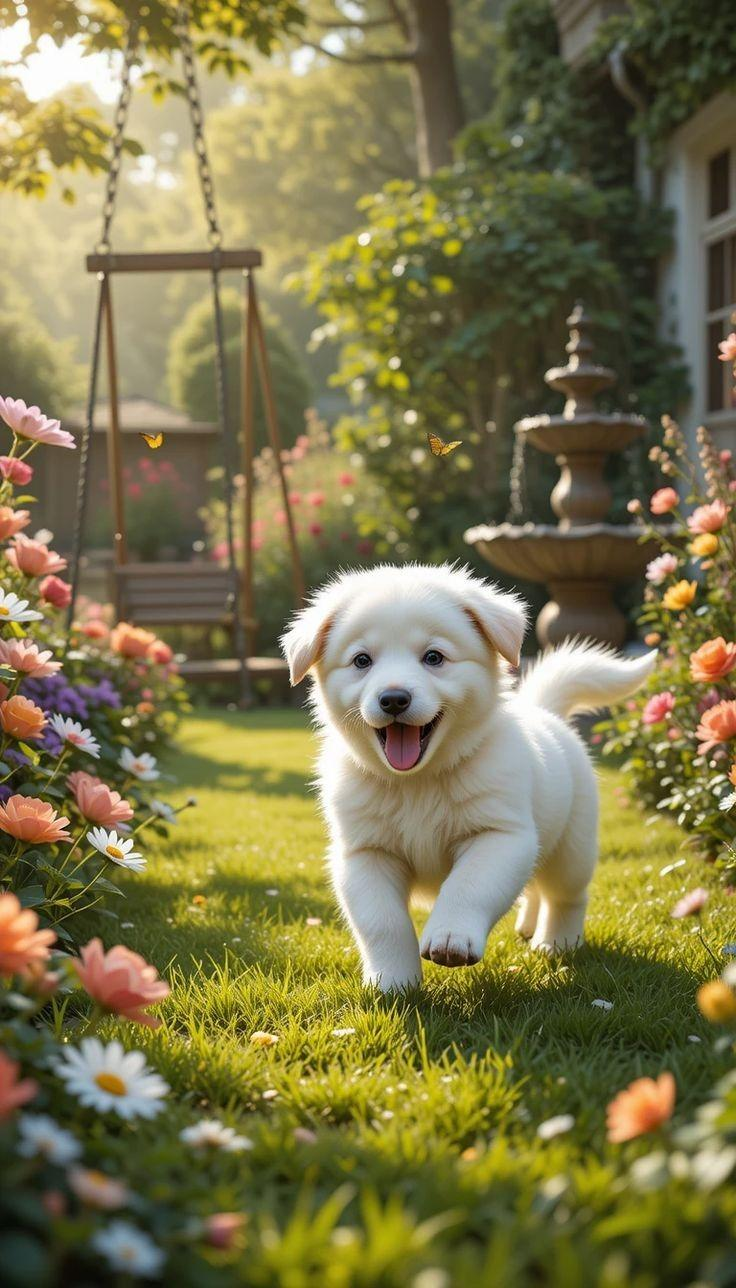puppy-dog: (276, 562, 662, 1002)
